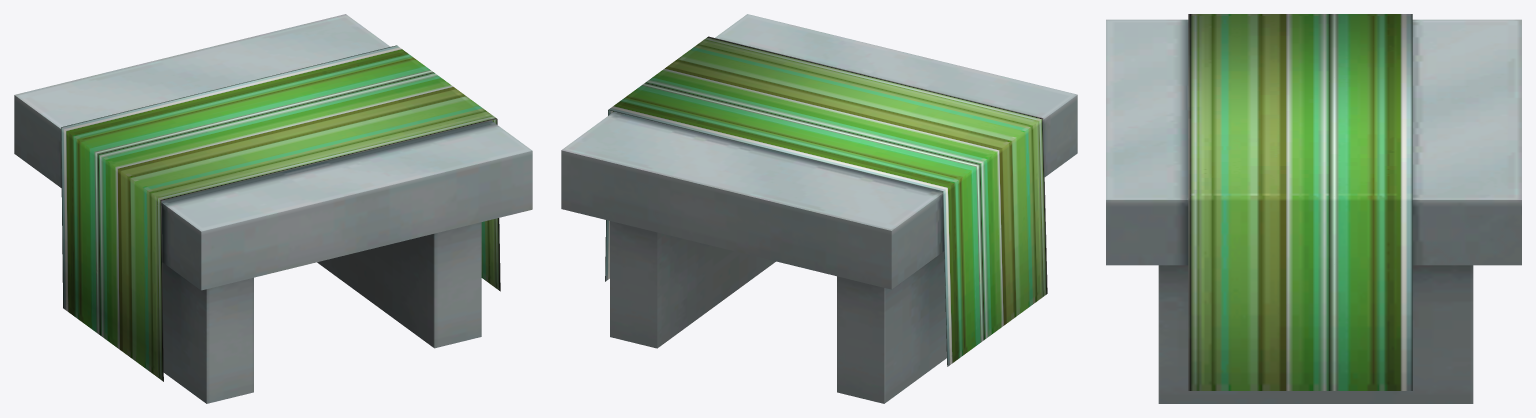
Rendered from furni_0200610_02.FBX.
The picture shows the model from 3 angles, left to right: view 1: azimuth 30°, elevation 25°; view 2: azimuth 150°, elevation 25°; view 3: azimuth 270°, elevation 25°; orthographic projection. The views are drawn at different scales.
Visible parts, largest first — view 1: furni_0200610_02; view 2: furni_0200610_02; view 3: furni_0200610_02.
Boxes of the visible parts, <box> form: furni_0200610_02: <box>14,14,532,403</box>; furni_0200610_02: <box>561,14,1077,403</box>; furni_0200610_02: <box>1106,14,1521,403</box>.
Size of the model in its own units: 81.37 by 45.92 by 77.46.
1 material, 1 textured.
